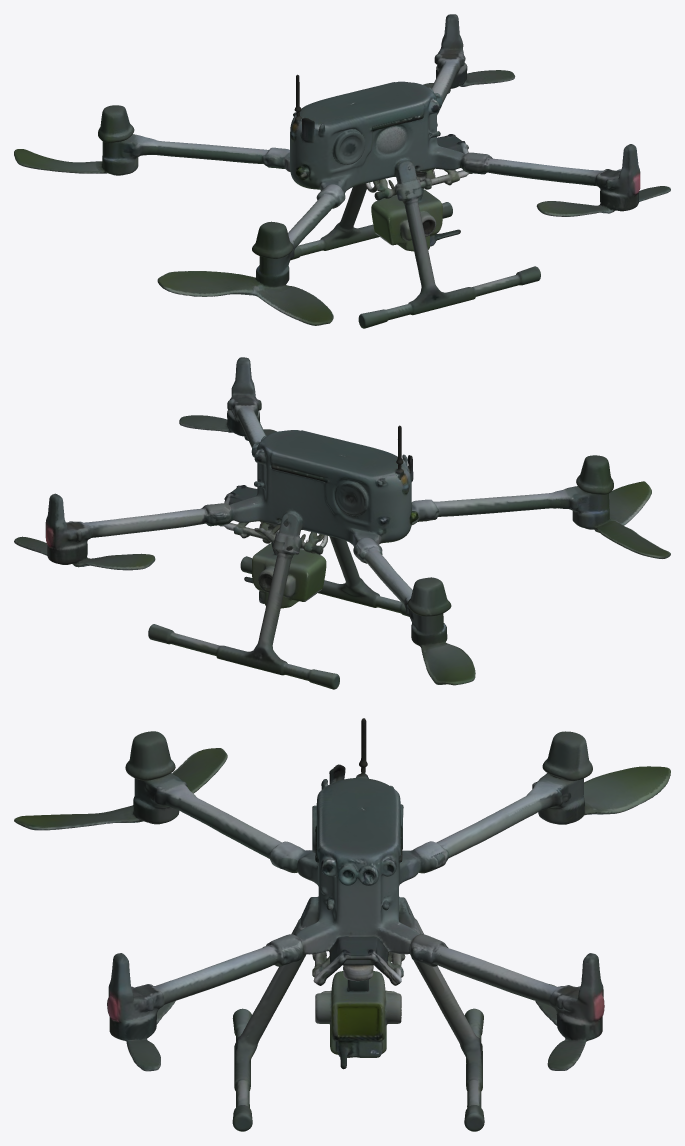
The model's file is EW_Drone.fbx.
3 views of the same model, one above another, from view 1: azimuth 30°, elevation 25°; view 2: azimuth 150°, elevation 25°; view 3: azimuth 270°, elevation 25° (orthographic). The views are drawn at different scales.
Visible parts, largest first — view 1: tripo_node_73f8668a; view 2: tripo_node_73f8668a; view 3: tripo_node_73f8668a.
Boxes of the visible parts, x1,y1,x2,y2 form: tripo_node_73f8668a: (14, 14, 670, 328); tripo_node_73f8668a: (14, 357, 670, 689); tripo_node_73f8668a: (14, 718, 670, 1131).
Bounding box in the file's own units: 1 × 0.4406 × 0.8864.
